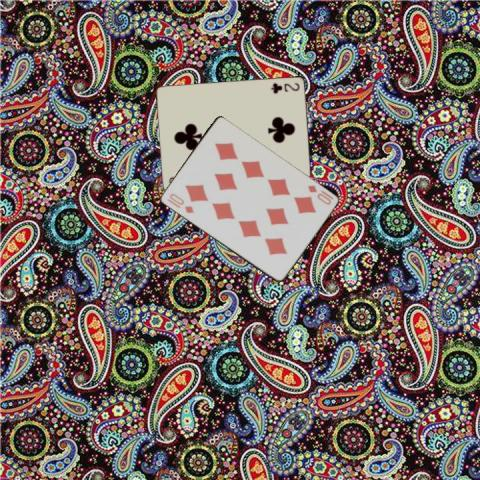10d: (305, 182, 332, 207), (166, 190, 194, 214)
2c: (267, 80, 301, 95)
